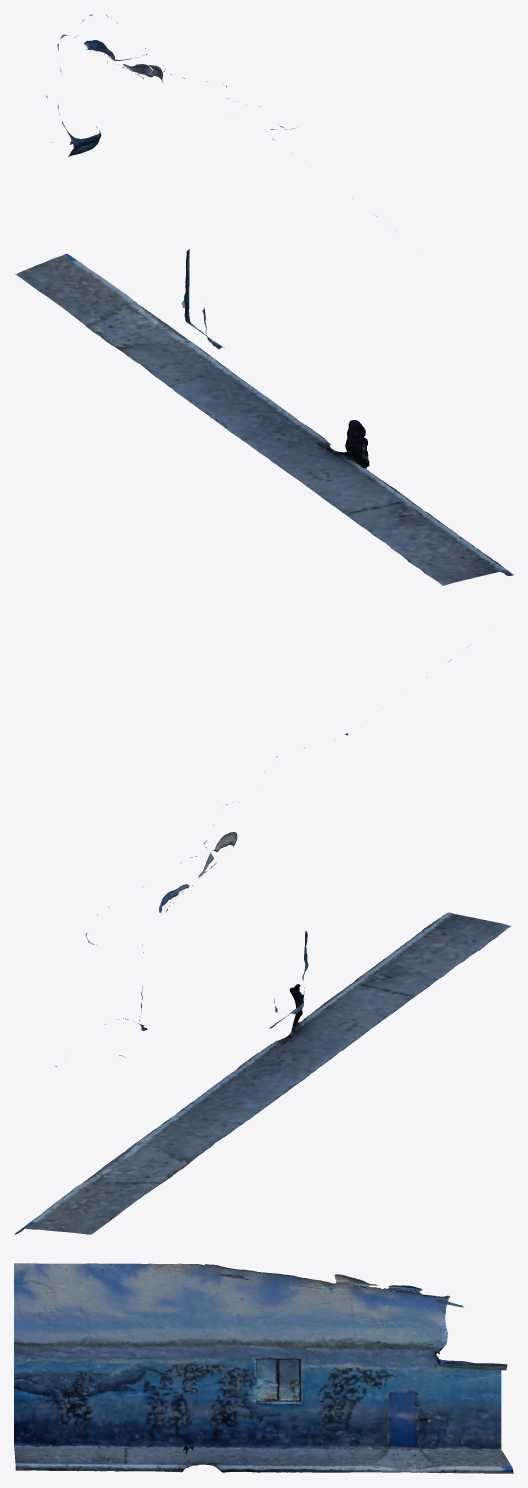
Rendered from Whale3.glb.
3 renders of one model, top to bottom at view 1: azimuth 30°, elevation 25°; view 2: azimuth 150°, elevation 25°; view 3: azimuth 270°, elevation 25°, orthographic. The views are drawn at different scales.
Parts seen in each view (by area): view 1: Mesh_0; view 2: Mesh_0; view 3: Mesh_0.
Boxes of the visible parts, left/top/right/bottom form: Mesh_0: left=15, top=14, right=513, bottom=585; Mesh_0: left=14, top=645, right=510, bottom=1234; Mesh_0: left=14, top=1263, right=513, bottom=1473.
Bounding box in the file's own units: 1.85 × 7.27 × 17.34.
